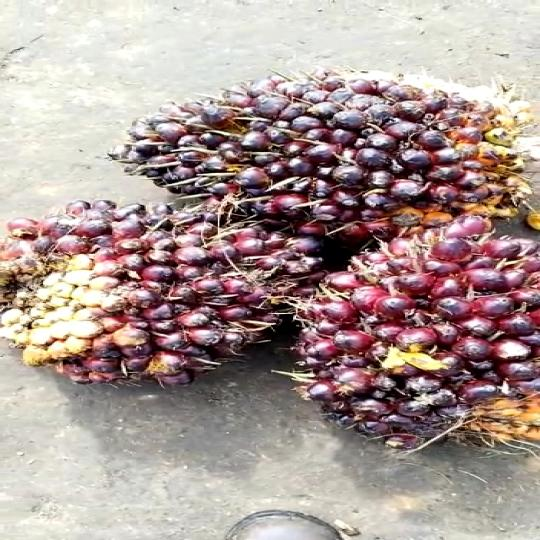kurang masak: (283, 202, 540, 495), (108, 61, 520, 233), (0, 180, 303, 412)
